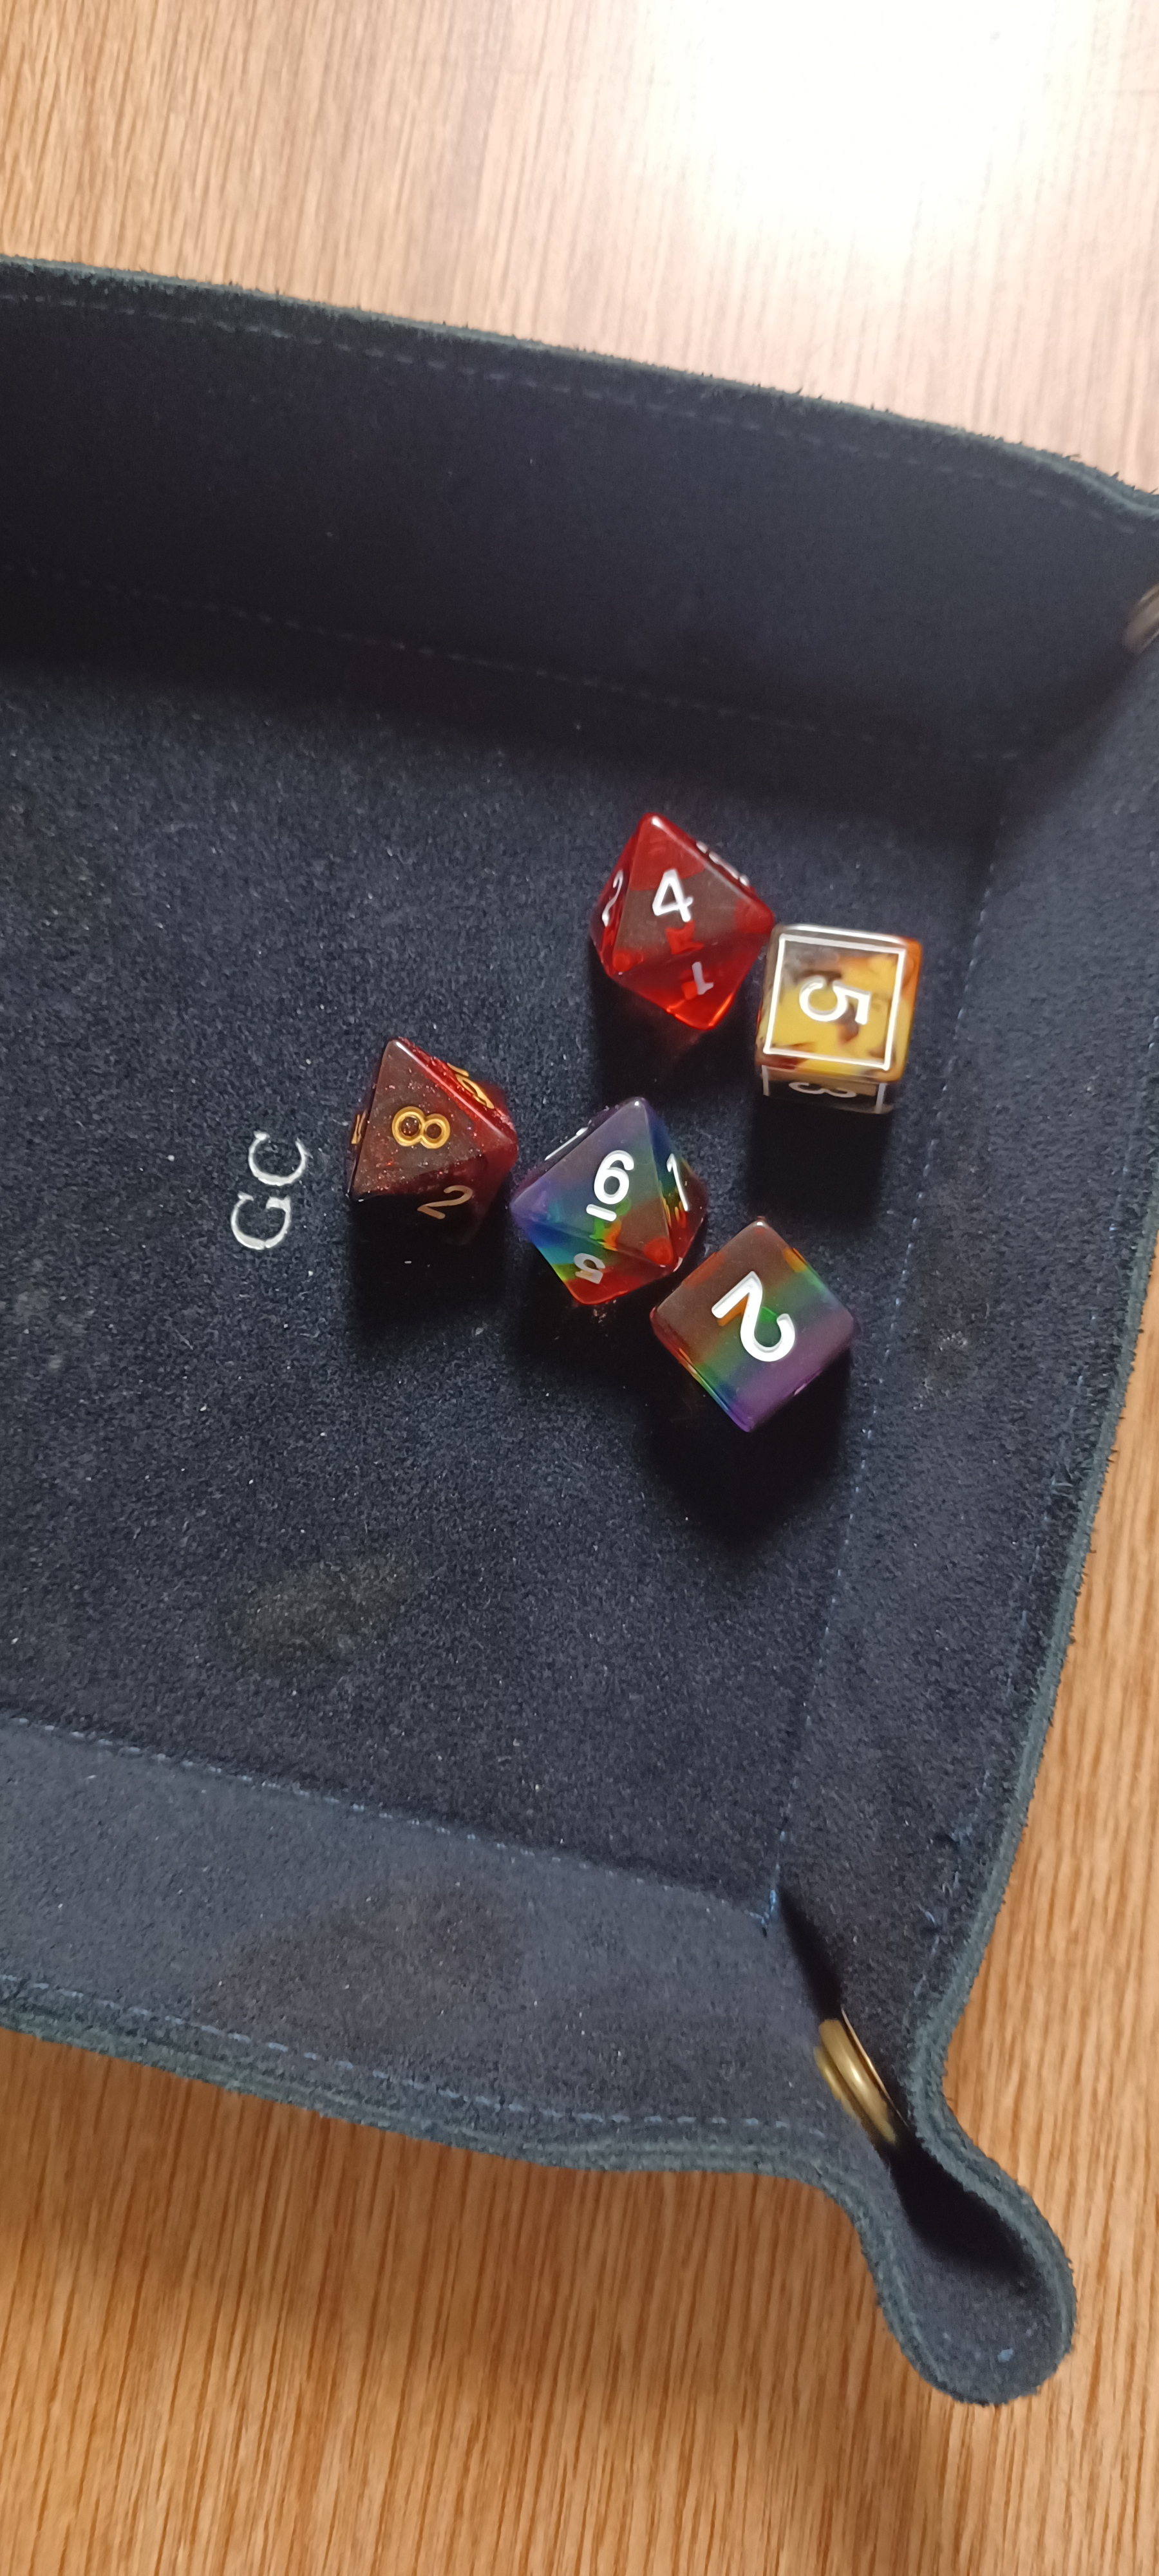eight: (307, 1019, 550, 1245)
five: (722, 895, 978, 1138)
four: (538, 795, 799, 1043)
six: (486, 1078, 721, 1327)
two: (622, 1189, 908, 1475)
